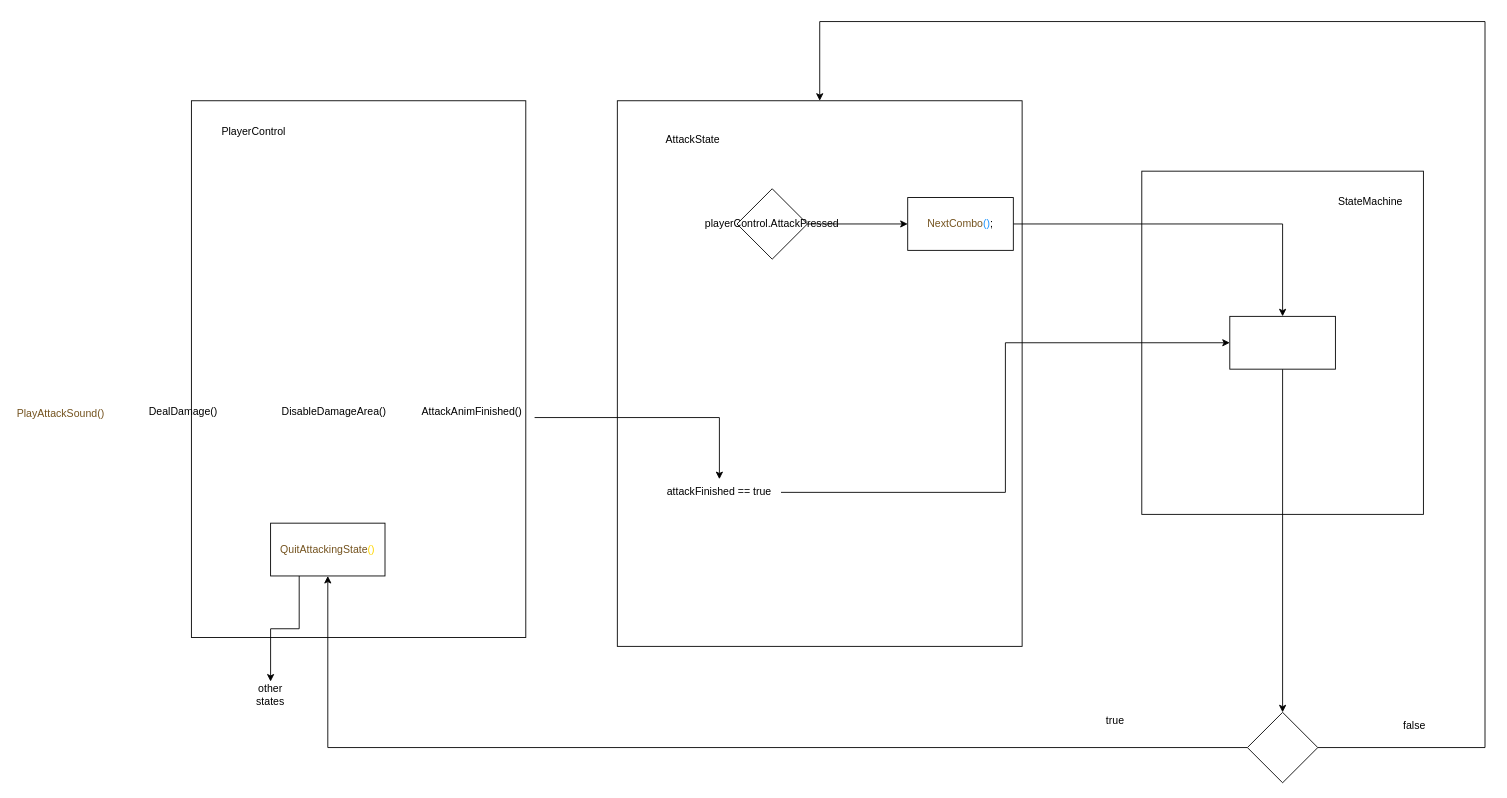
Image size: 1507x798. Some labels were removed from this diagram. The shapes that lost their labels are listed below. From the top down, each one's centre as x and y in pixels, then its label:
At [1282,342]: "SwitchState".
At [1282,747]: "quittingAttack".
